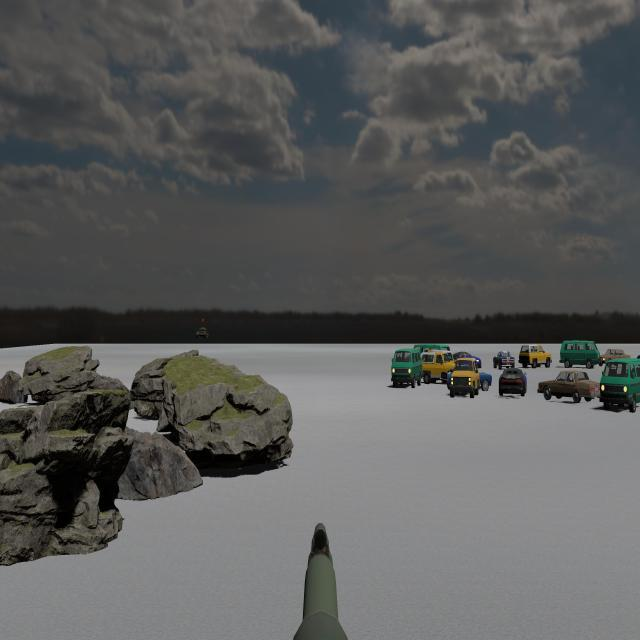car: (599, 358, 640, 413), (537, 368, 600, 403), (448, 358, 480, 399), (421, 351, 458, 384), (391, 348, 422, 387), (559, 340, 601, 368), (519, 343, 552, 369), (499, 367, 527, 397), (493, 350, 515, 370)
